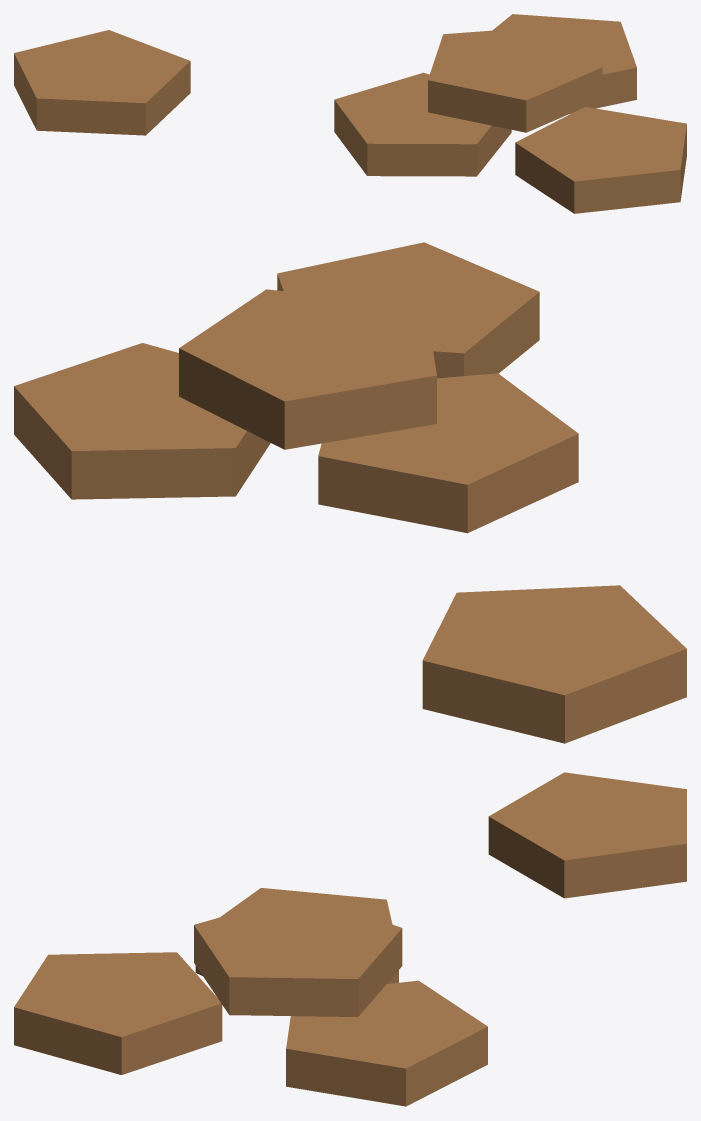
Rendered from CoinPile2.fbx.
3 views of the same model, one above another, from view 1: azimuth 30°, elevation 25°; view 2: azimuth 150°, elevation 25°; view 3: azimuth 270°, elevation 25° (orthographic). The views are drawn at different scales.
Visible parts, largest first — view 1: CoinPile2; view 2: CoinPile2; view 3: CoinPile2.
Part boxes in pixels (x1,y1,x2,y2): CoinPile2: (14, 14, 686, 213); CoinPile2: (14, 242, 686, 743); CoinPile2: (14, 772, 686, 1106).
Bounding box in the file's own units: 0.3851 × 0.3697 × 0.046.
